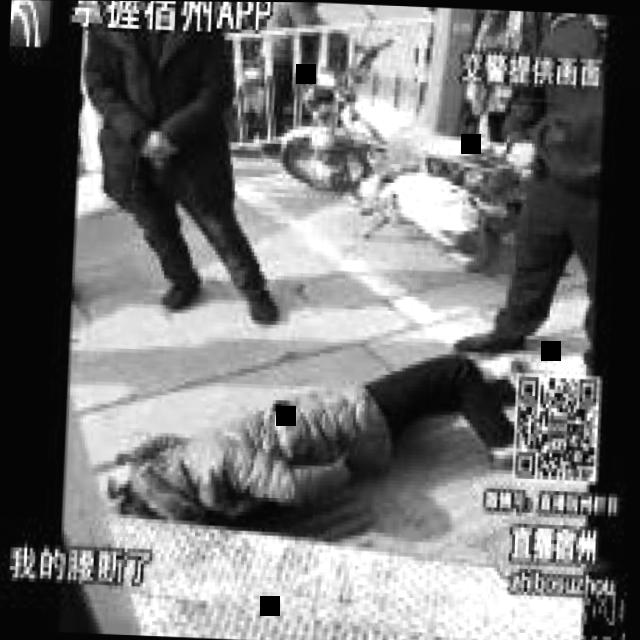Fall-Detected: (101, 299, 524, 545)
